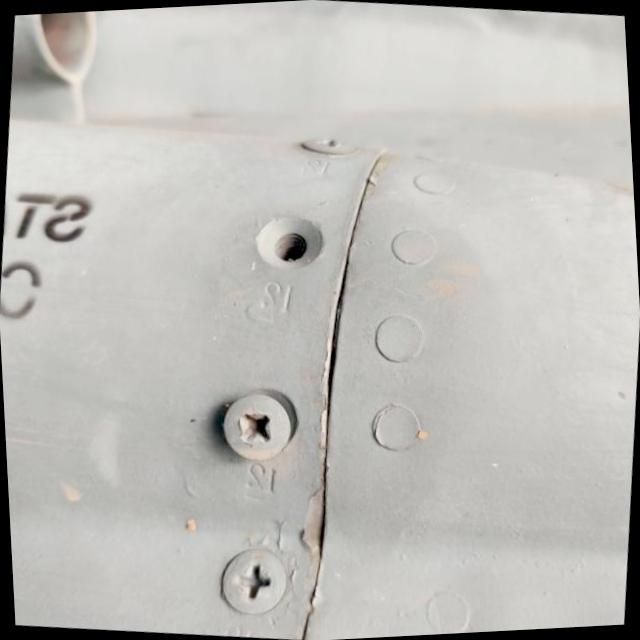Missing Fastener: (246, 212, 326, 275)
